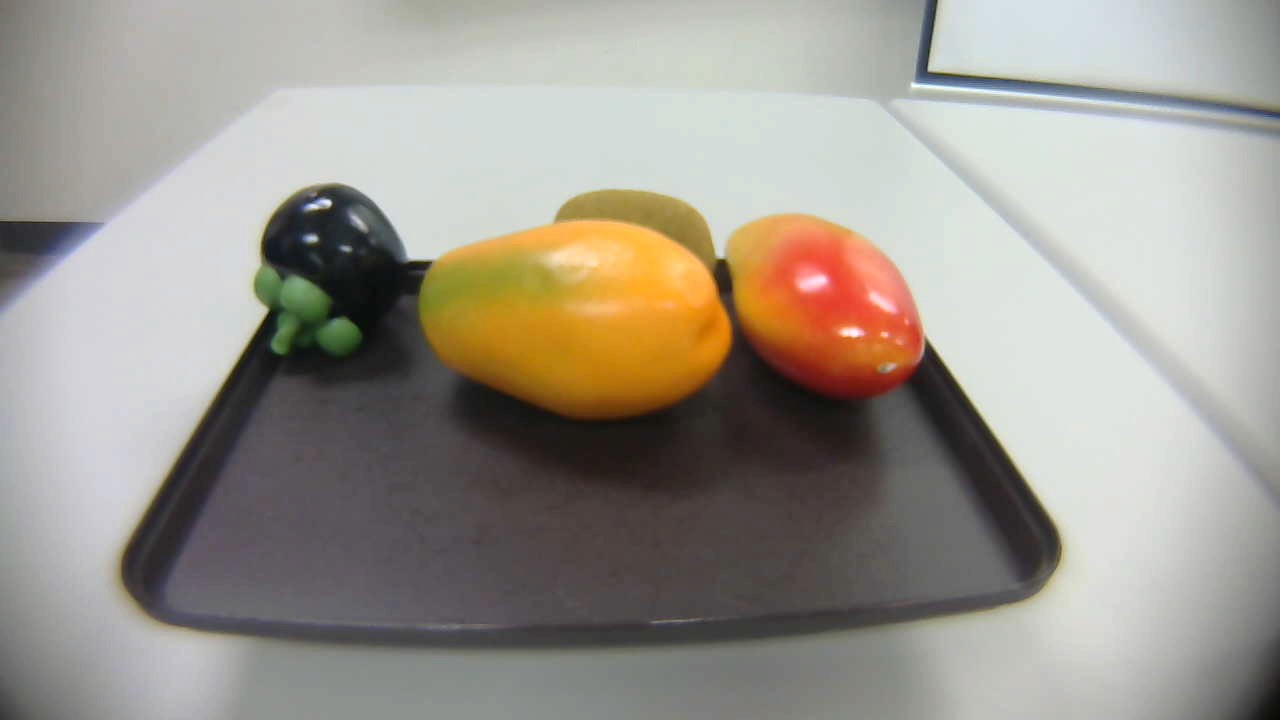kiwi fruit: (535, 164, 728, 293)
mangosteen: (245, 173, 404, 356)
papya: (395, 216, 763, 444)
red mango: (725, 214, 935, 413)
